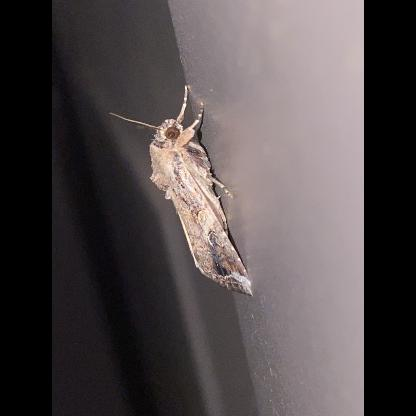Fall Armyworm Moth: (107, 84, 257, 300)
